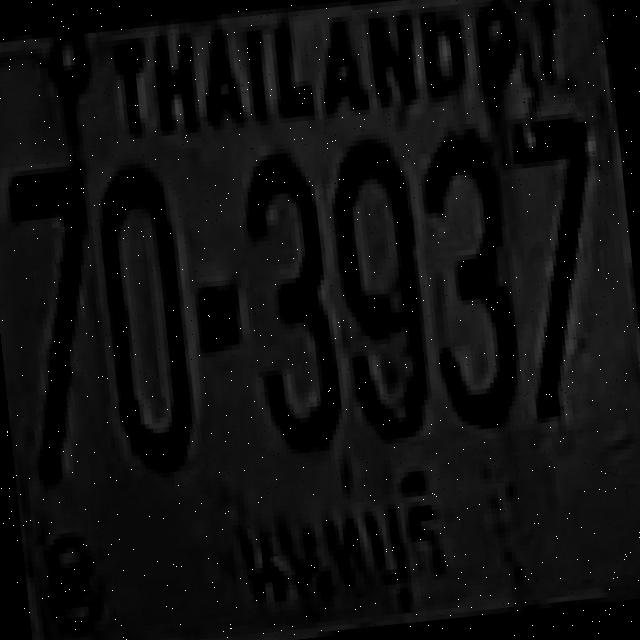0: (91, 160, 198, 472), (91, 160, 192, 417), (94, 160, 186, 382)
3: (412, 128, 521, 430), (236, 150, 341, 451)
7: (506, 114, 611, 416), (3, 162, 100, 348)
9: (326, 138, 430, 440)
Nonthaburi: (224, 459, 464, 635)
